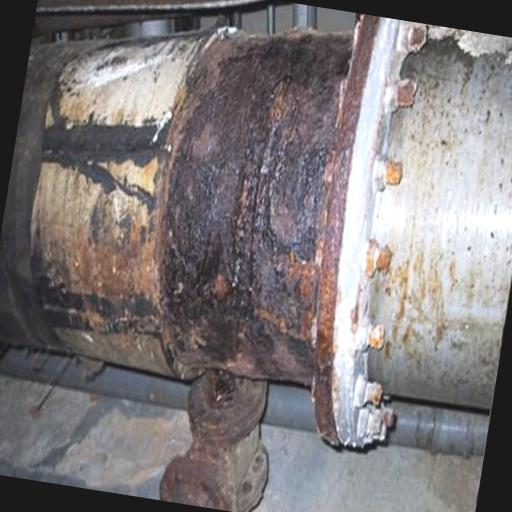segmentation: (0, 37, 94, 344), (25, 162, 159, 323), (106, 154, 158, 190)
